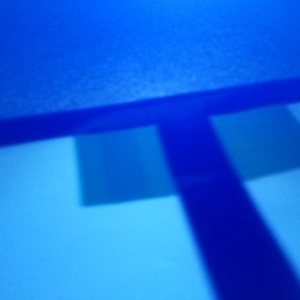bottom_left: (74, 108, 207, 206)
bottom_right: (176, 104, 300, 181)
